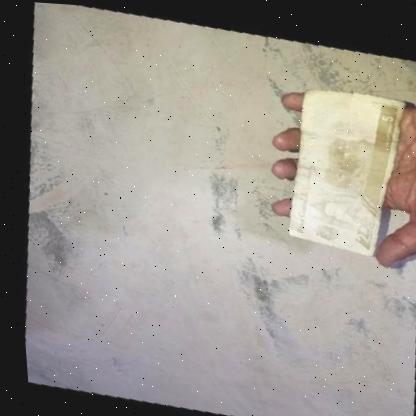five-back-vef: (274, 71, 413, 256)
